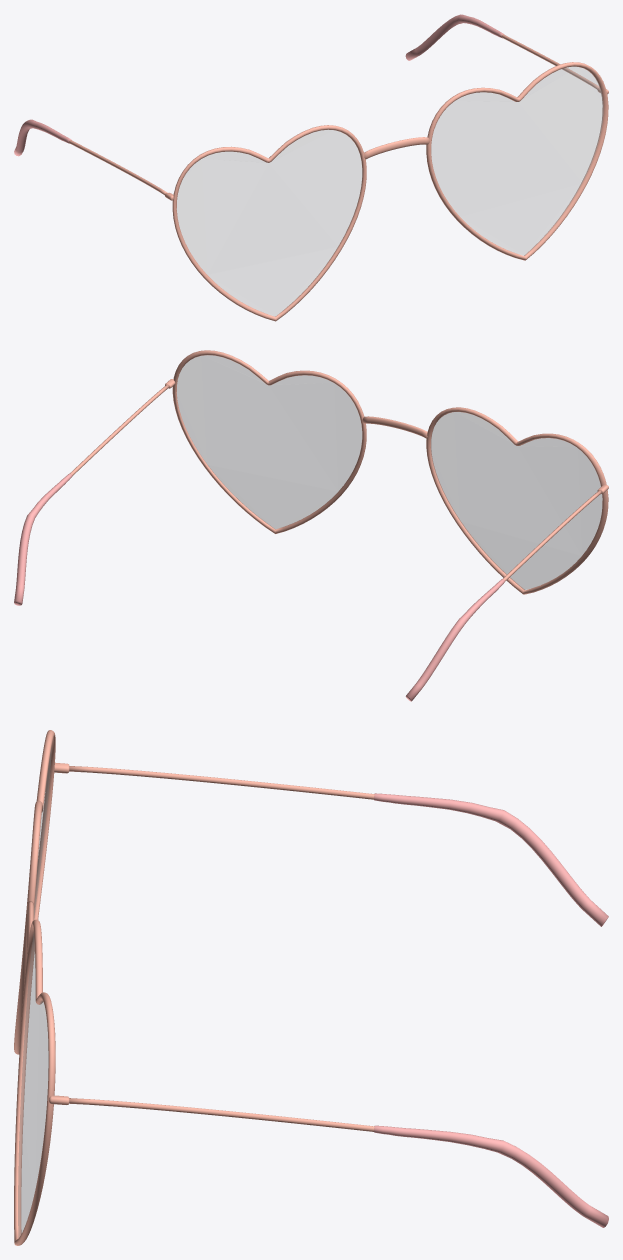
The model's file is sunglasses3.glb.
3 renders of one model, top to bottom at view 1: azimuth 30°, elevation 25°; view 2: azimuth 150°, elevation 25°; view 3: azimuth 270°, elevation 25°, orthographic. The views are drawn at different scales.
Visible parts, largest first — view 1: Circle.002_3, heart-shaped_glasses, BezierCurve_2, Cylinder.001_5; view 2: Circle.002_3, heart-shaped_glasses, BezierCurve_2, Cylinder.001_5; view 3: heart-shaped_glasses, BezierCurve_2, Circle.002_3, Cylinder.001_5.
Part boxes in pixels (box(x1,y1,x2,y2)): Circle.002_3: box(177, 67, 603, 316); heart-shaped_glasses: box(172, 62, 608, 321); BezierCurve_2: box(14, 14, 504, 156); Cylinder.001_5: box(69, 34, 599, 195); Circle.002_3: box(177, 355, 602, 589); heart-shaped_glasses: box(172, 350, 608, 594); BezierCurve_2: box(14, 473, 504, 701); Cylinder.001_5: box(70, 384, 601, 581); heart-shaped_glasses: box(14, 730, 55, 1245); BezierCurve_2: box(374, 793, 608, 1227); Circle.002_3: box(18, 748, 51, 1237); Cylinder.001_5: box(69, 766, 374, 1131).
Bounding box in the file's own units: 0.1323 × 0.0514 × 0.0988.
